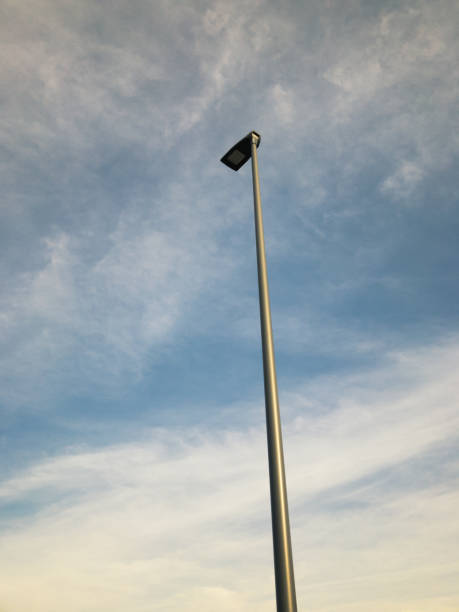light_pole: (249, 161, 305, 612)
